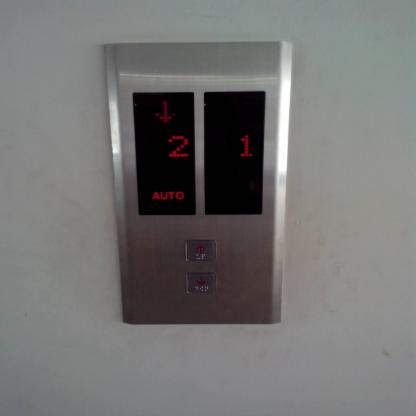down: (184, 271, 218, 296)
led: (132, 90, 196, 214), (204, 91, 266, 216)
up: (183, 239, 218, 265)
